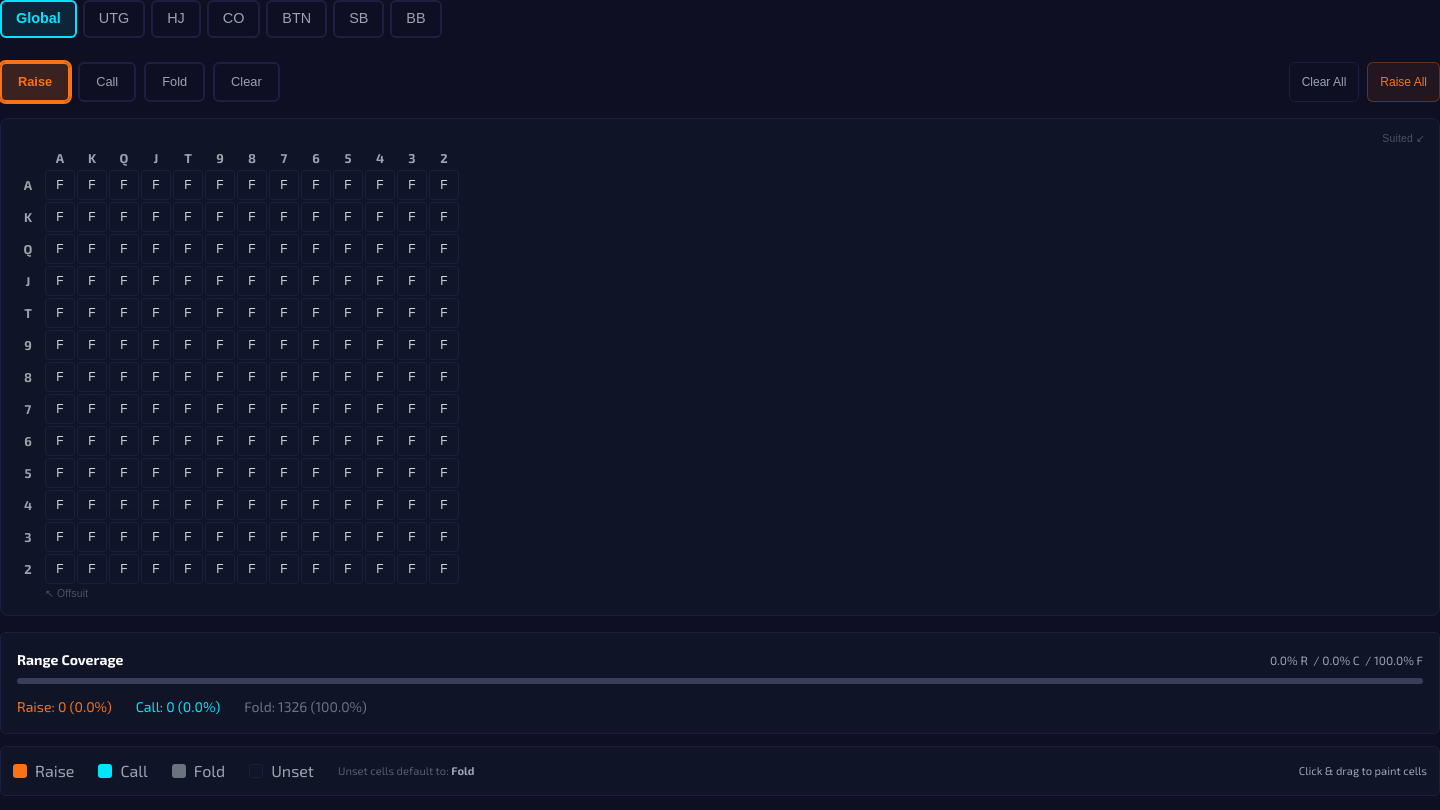
Position tab bar › switches active tab on click
Click the button "BTN". click: (297, 19)
box: [266,0,327,38]
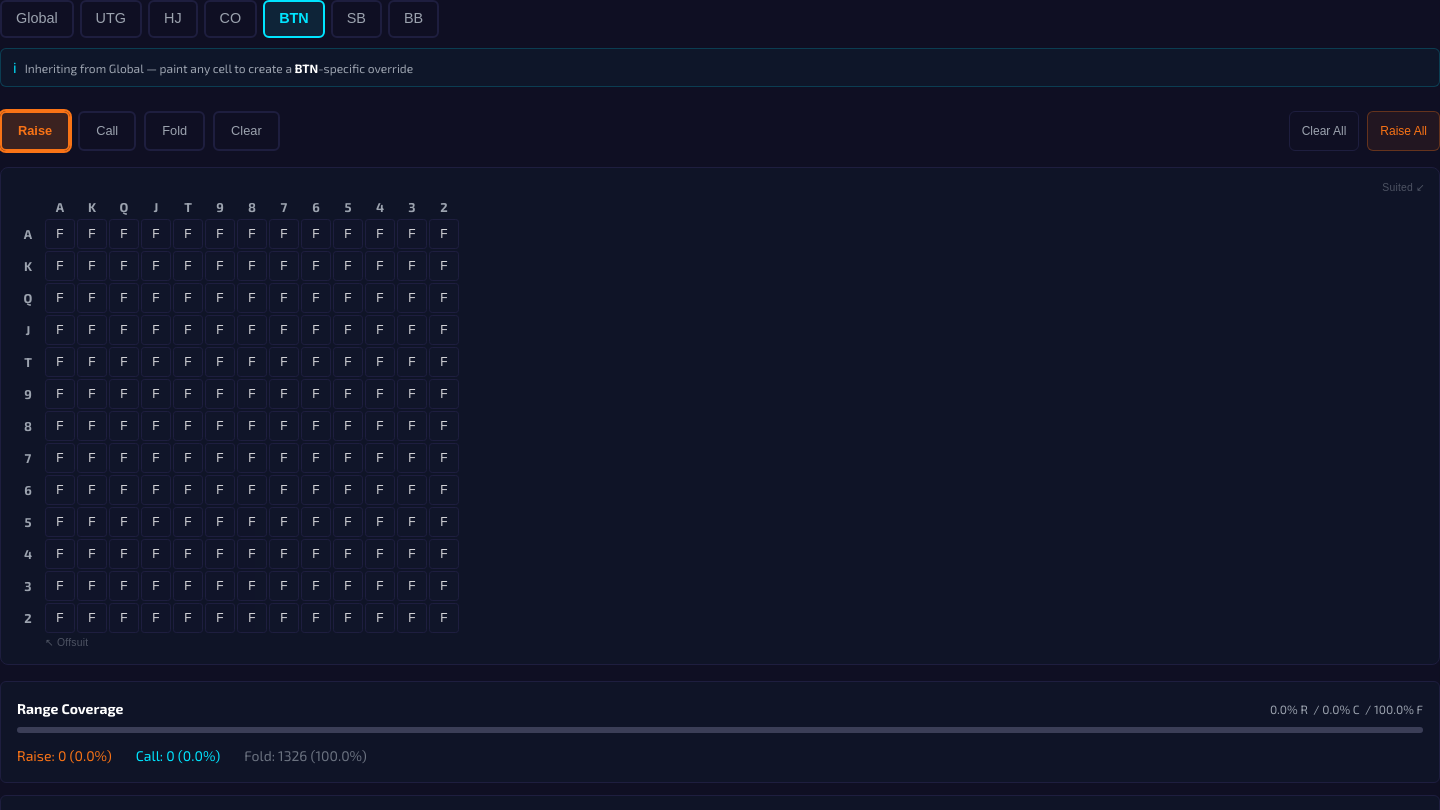
Result: the text "Inheriting from Global" is shown at [25,61,292,75]
